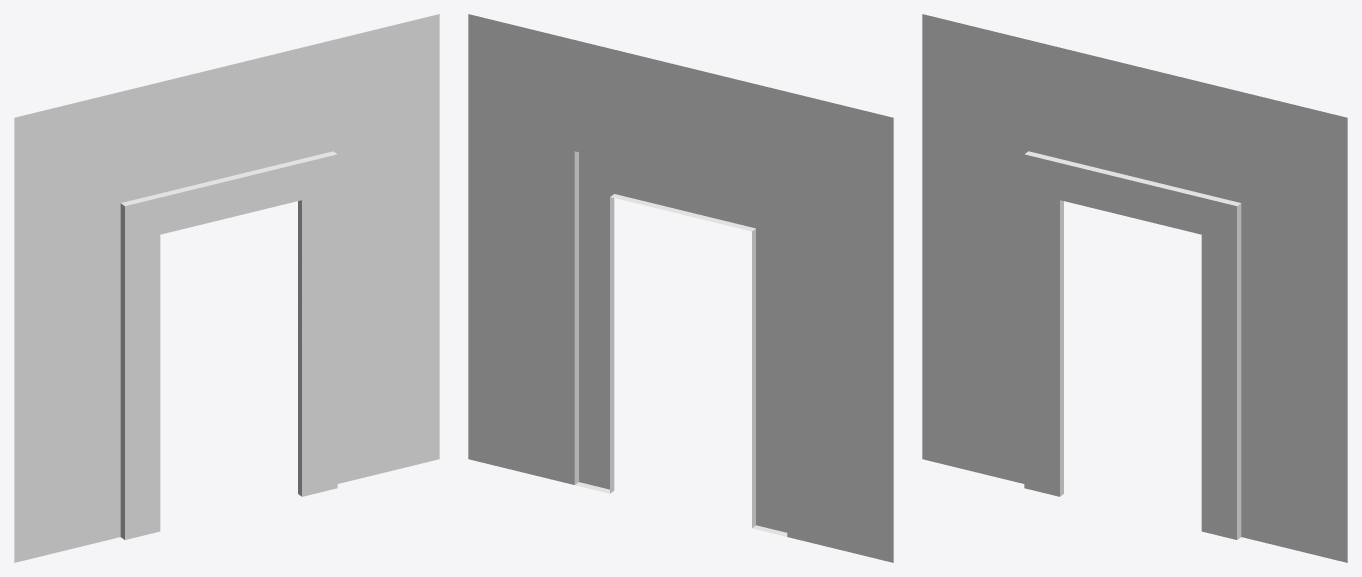
The model's file is Marco_03.fbx.
3 views of the same model, side by side, from view 1: azimuth 30°, elevation 25°; view 2: azimuth 150°, elevation 25°; view 3: azimuth 330°, elevation 25° (orthographic).
Parts seen in each view (by area): view 1: Plane.003; view 2: Plane.003; view 3: Plane.003.
Part boxes in pixels (x1,y1,x2,y2): Plane.003: [14, 14, 439, 562]; Plane.003: [468, 14, 893, 562]; Plane.003: [922, 14, 1347, 562].
Bounding box in the file's own units: 600 × 600 × 10.38.
